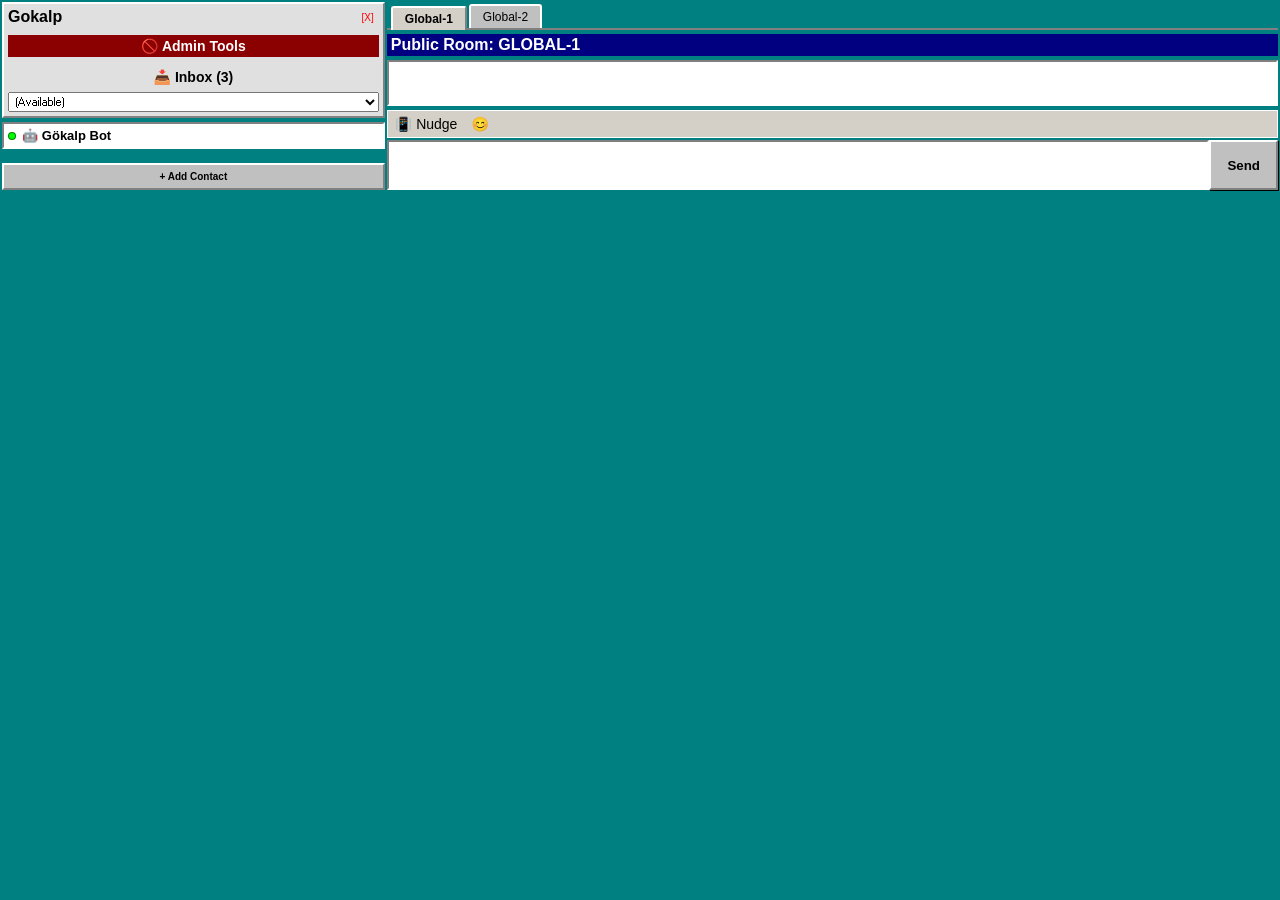
Test: admin: bot lessons › counts waiting lessons on the Inbox button and on the tab
The width and height of the screenshot is (1280, 900).
Step 1. Click the button "📥 Inbox (3)" → (193, 77), box [8,66,379,88]
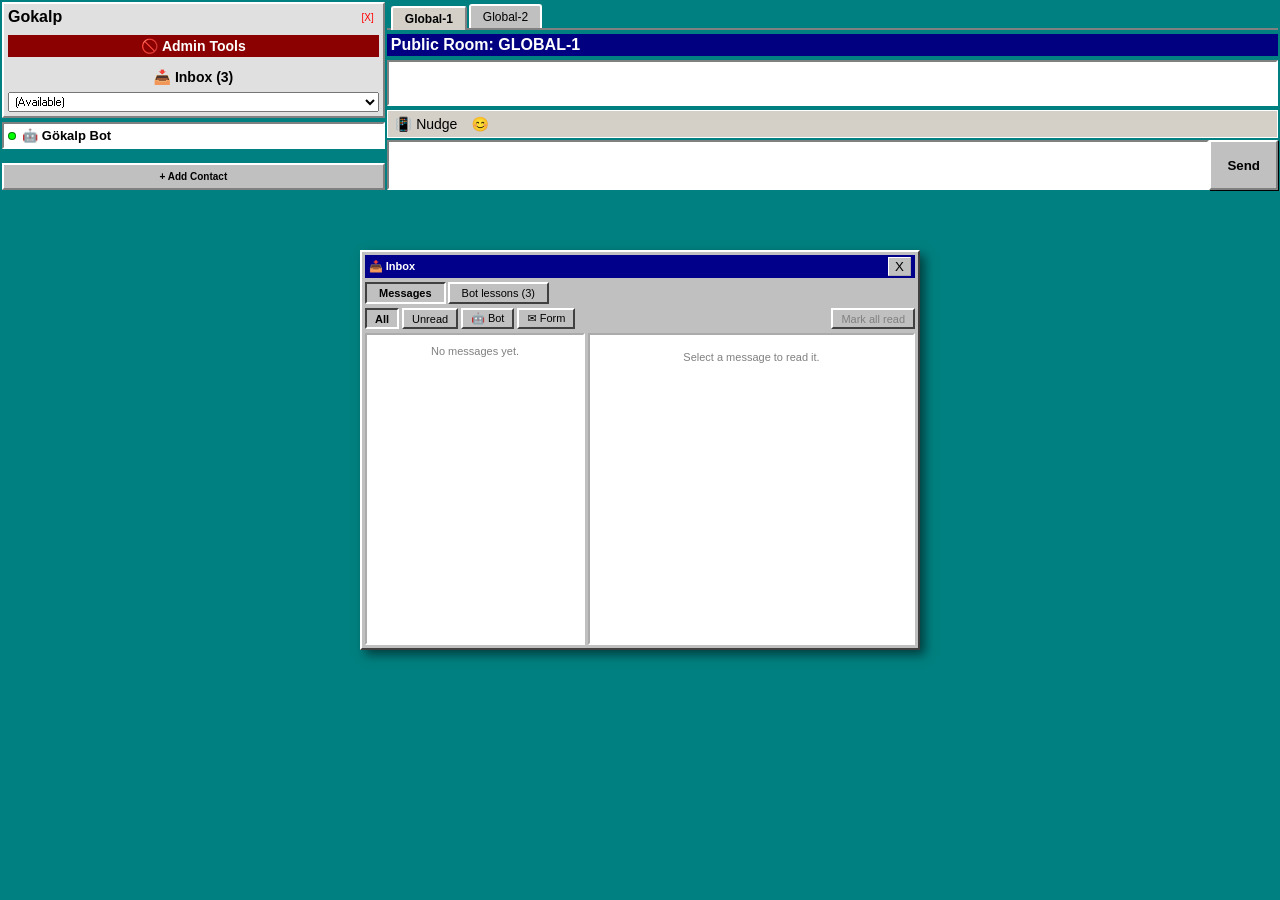
Expected: the tab "Bot lessons (3)" is shown, [448,282,549,304]
